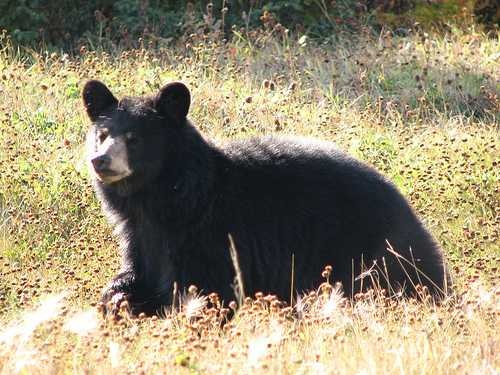bear: (71, 73, 199, 201)
